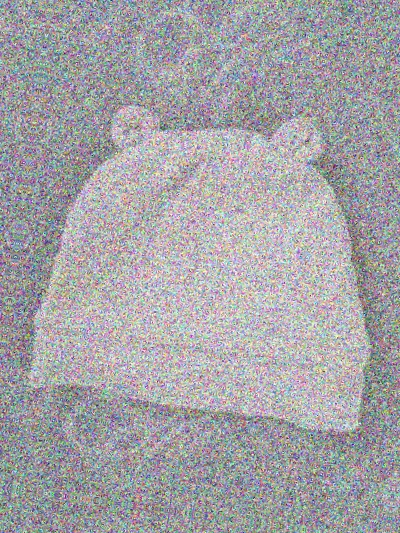Hat: (28, 72, 400, 452), (0, 16, 8, 396)
